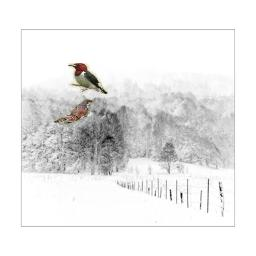Cuckoo: (54, 98, 94, 126)
Woodpecker: (68, 63, 108, 94)
